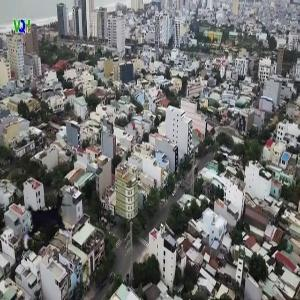drone: (13, 188, 86, 261)
